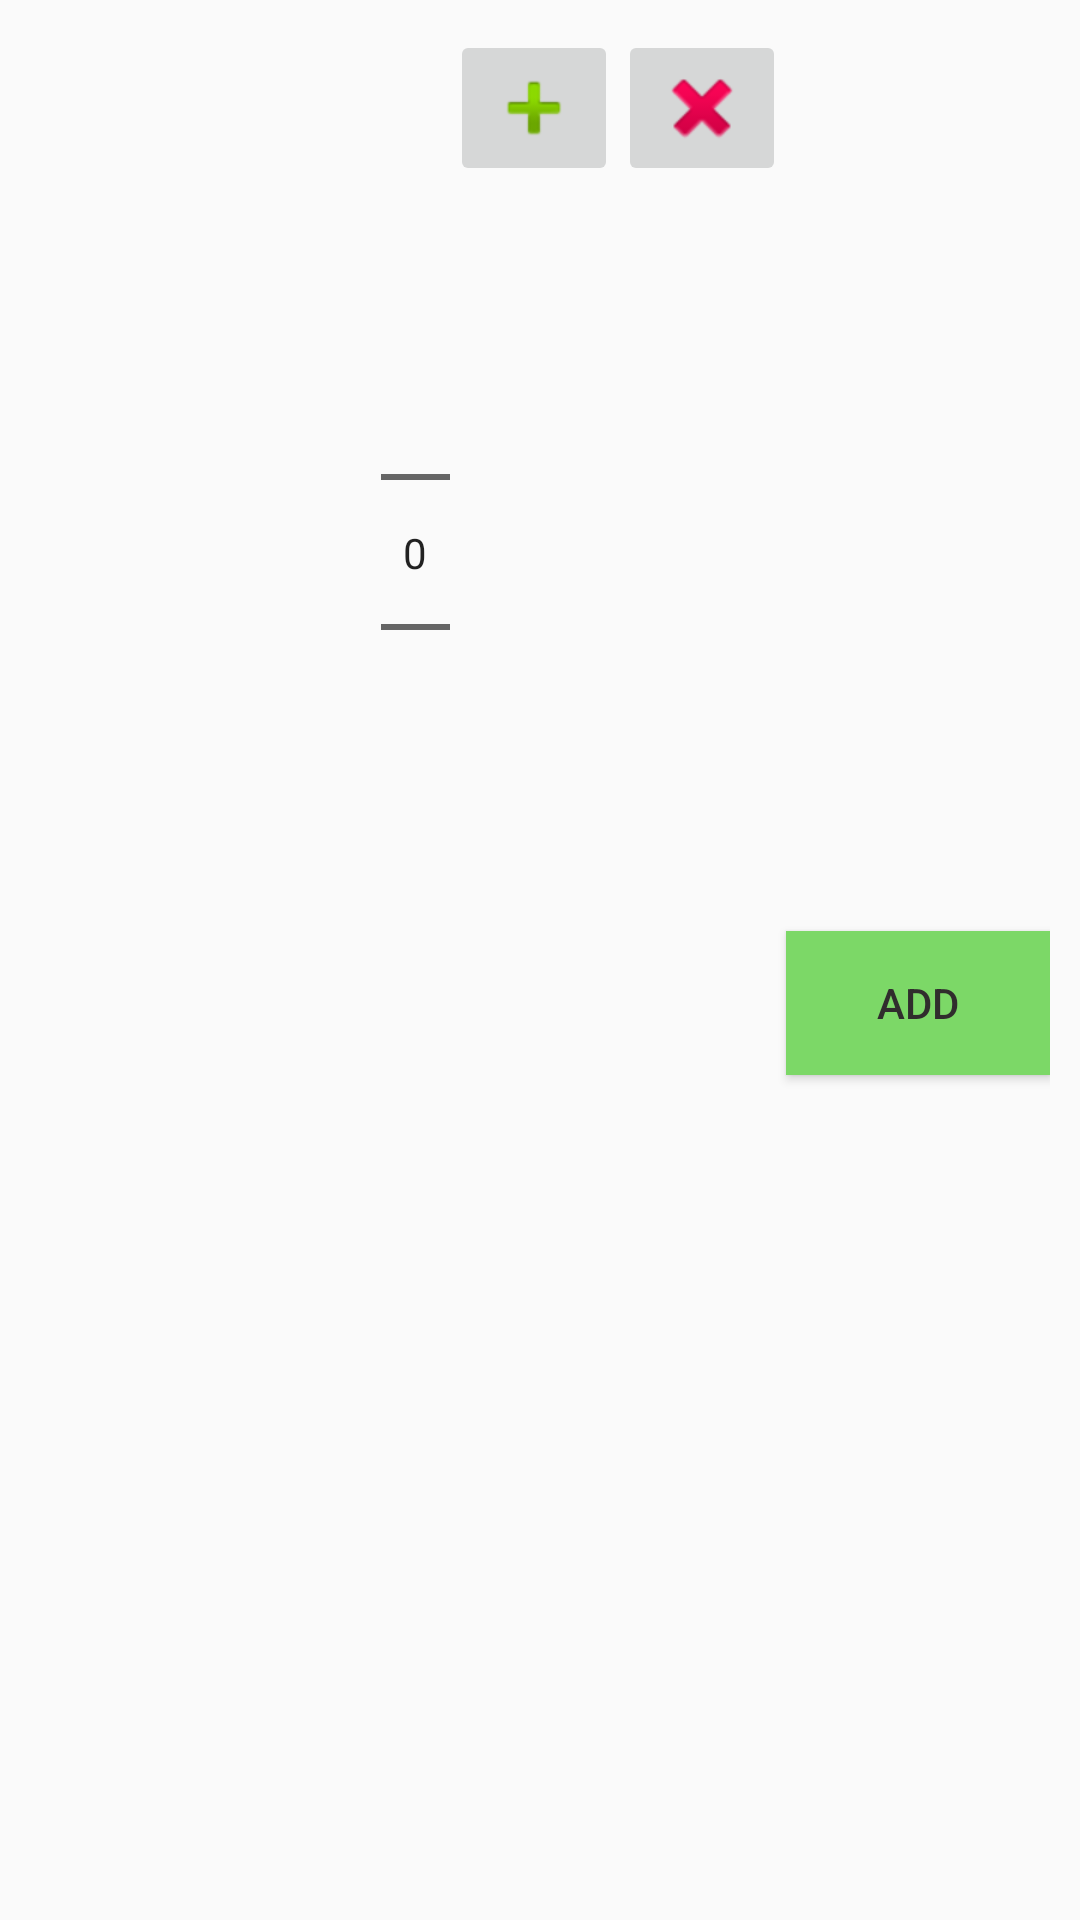

Icons on this 1080w x 1920h Android screen, each with the point to tap as (x,y):
add: (534,108)
delete: (702,108)
